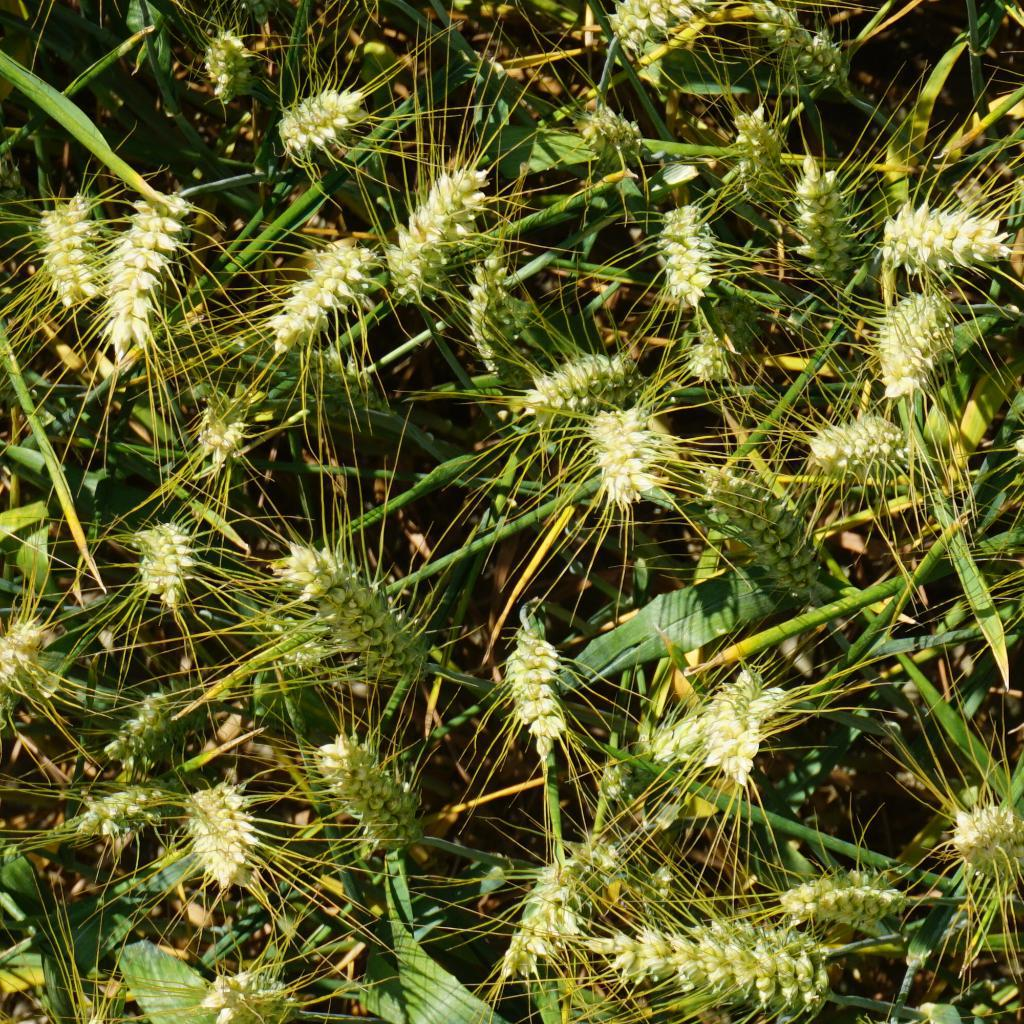0-0: (568, 921, 850, 1024), (267, 535, 431, 696), (378, 156, 488, 305), (685, 656, 798, 799), (701, 460, 825, 587), (111, 179, 197, 352), (485, 615, 579, 771), (868, 286, 984, 410), (766, 858, 930, 943), (254, 246, 384, 348), (164, 781, 269, 903), (314, 726, 416, 847), (583, 401, 674, 519), (879, 199, 1018, 275), (934, 798, 1024, 894), (124, 515, 207, 615), (512, 844, 576, 968), (748, 0, 840, 86), (792, 159, 859, 275), (274, 79, 369, 158), (34, 193, 101, 302), (192, 957, 296, 1024), (575, 102, 659, 180), (652, 206, 721, 299), (814, 409, 896, 482), (716, 100, 783, 184), (282, 344, 381, 400), (518, 350, 626, 401), (460, 253, 514, 354), (68, 784, 163, 841), (599, 0, 696, 53), (98, 694, 177, 753), (258, 606, 333, 666), (188, 386, 249, 457), (611, 713, 701, 757), (0, 615, 45, 703), (572, 828, 629, 892), (200, 28, 252, 98), (591, 757, 648, 812), (636, 860, 686, 908), (679, 334, 729, 379)
